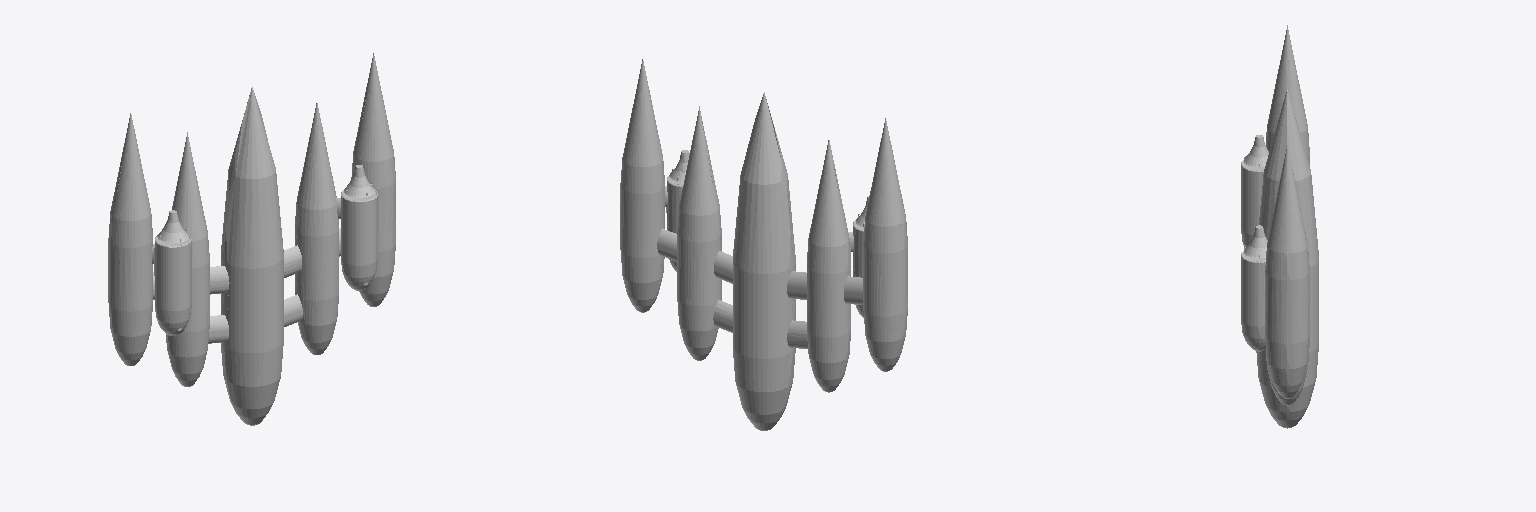
The model's file is ikarus.obj.
3 renders of one model, left to right at view 1: azimuth 30°, elevation 25°; view 2: azimuth 150°, elevation 25°; view 3: azimuth 270°, elevation 25°, orthographic.
Parts seen in each view (by area): view 1: Object.1; view 2: Object.1; view 3: Object.1.
Boxes of the visible parts, <box> form: Object.1: <box>108,53,395,425</box>; Object.1: <box>620,59,907,430</box>; Object.1: <box>1241,25,1318,428</box>.
Size of the model in its own units: 870 by 1011 by 210.